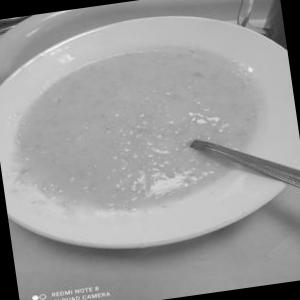porridge: (0, 25, 288, 240)
